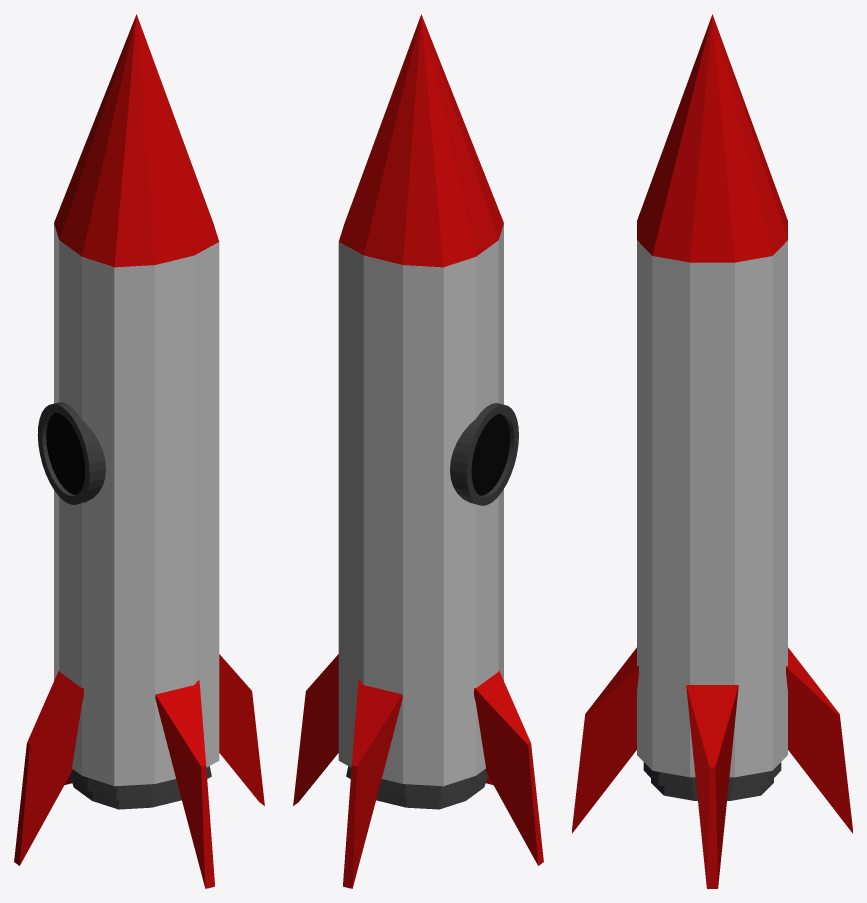
The model's file is Rocket.obj.
The picture shows the model from 3 angles, left to right: view 1: azimuth 30°, elevation 25°; view 2: azimuth 150°, elevation 25°; view 3: azimuth 270°, elevation 25°; orthographic projection.
Bounding box in the file's own units: 3.72 × 11.91 × 3.72.
